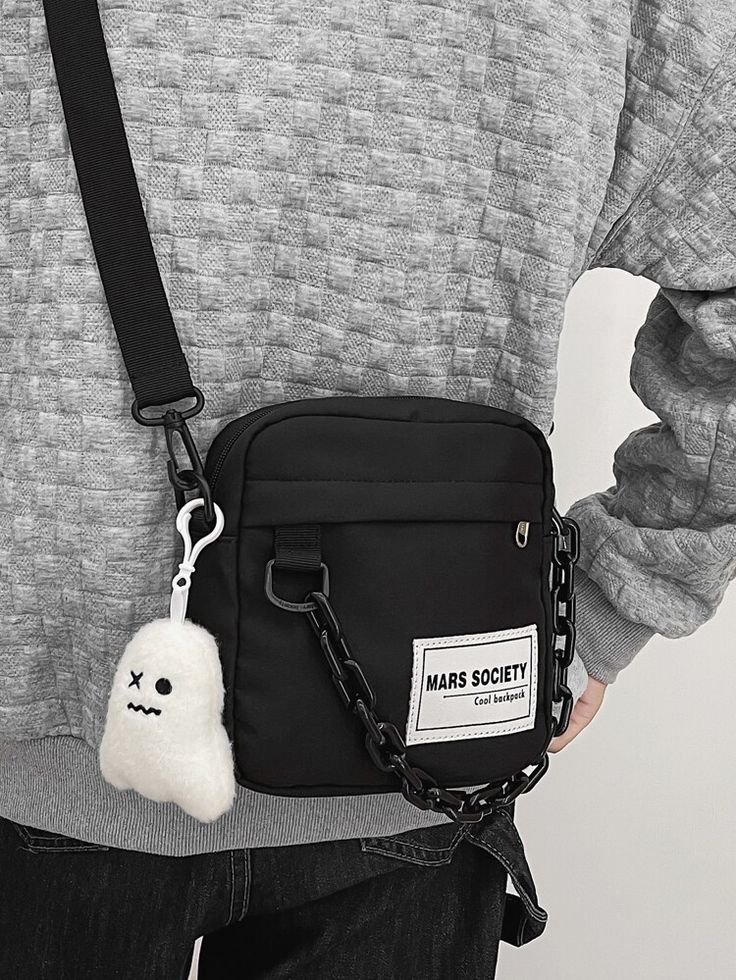nylon: (189, 395, 557, 797)
